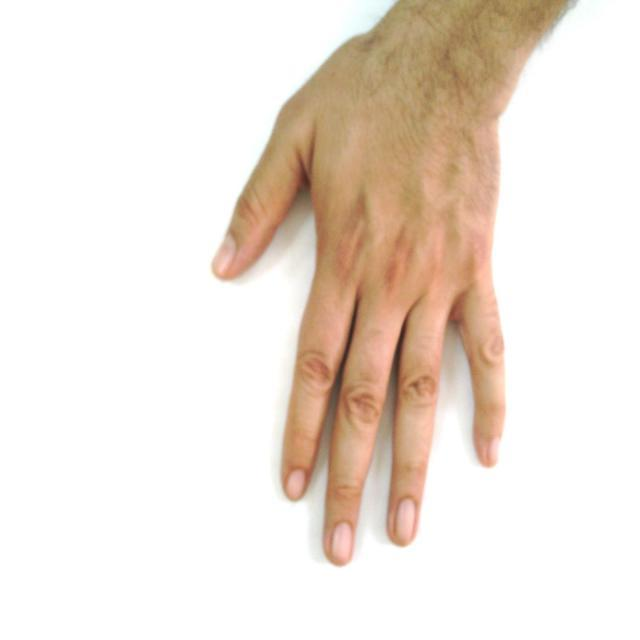Fingernail: (395, 499, 416, 544), (331, 523, 352, 565), (212, 236, 235, 273), (287, 470, 306, 500), (488, 440, 499, 465)
